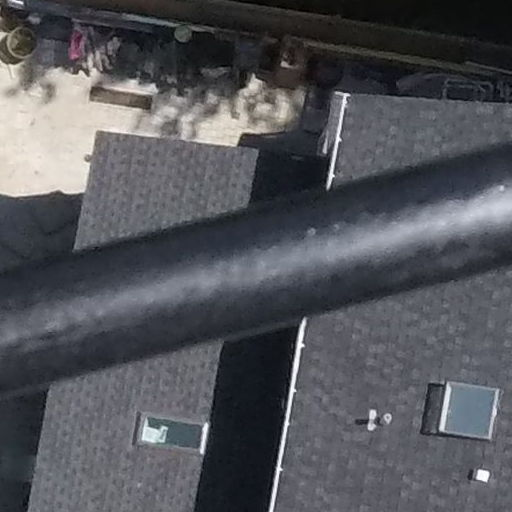clutter: (65, 19, 354, 113)
container: (3, 25, 42, 61)
